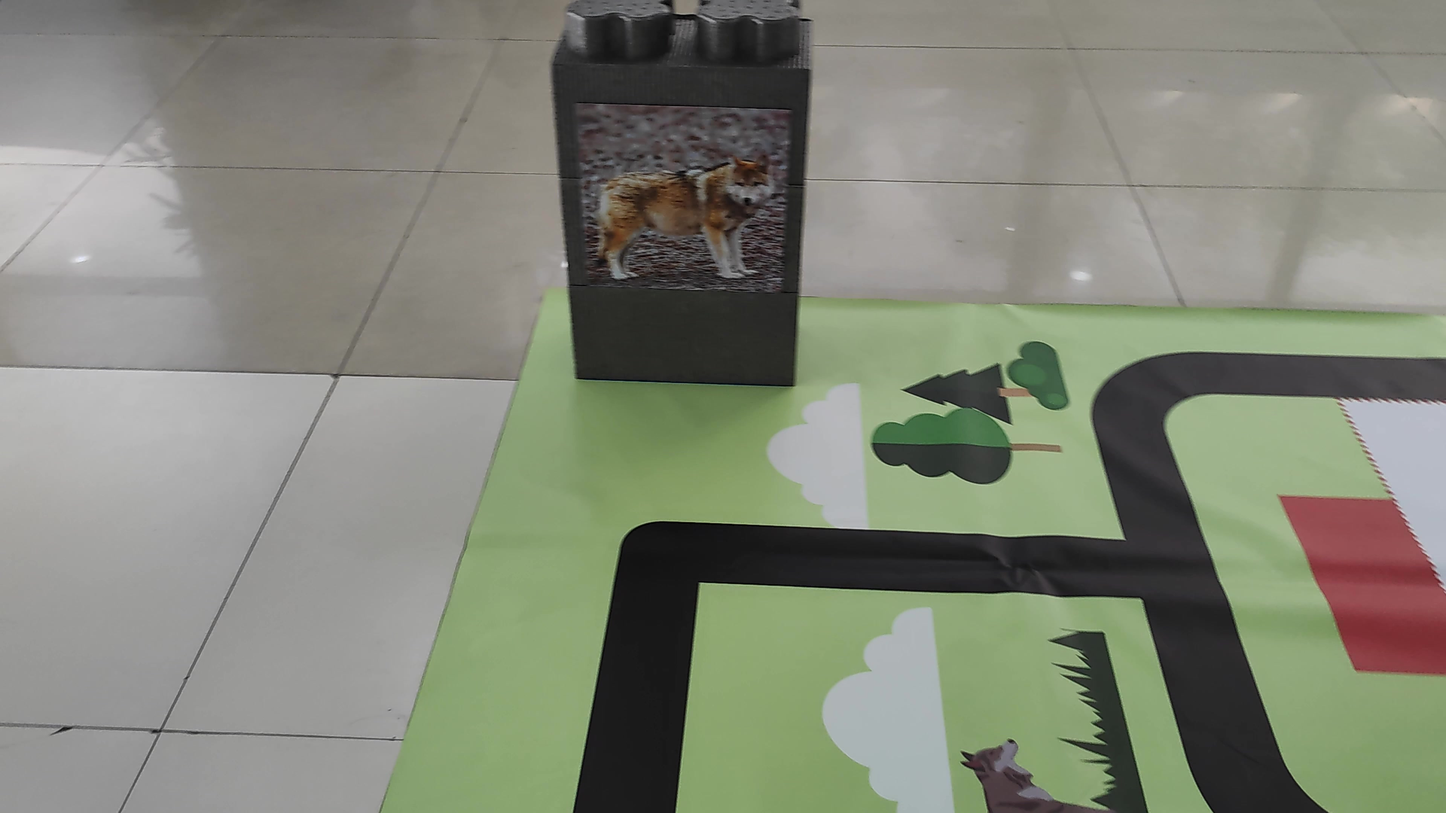wolf: (592, 116, 782, 294)
